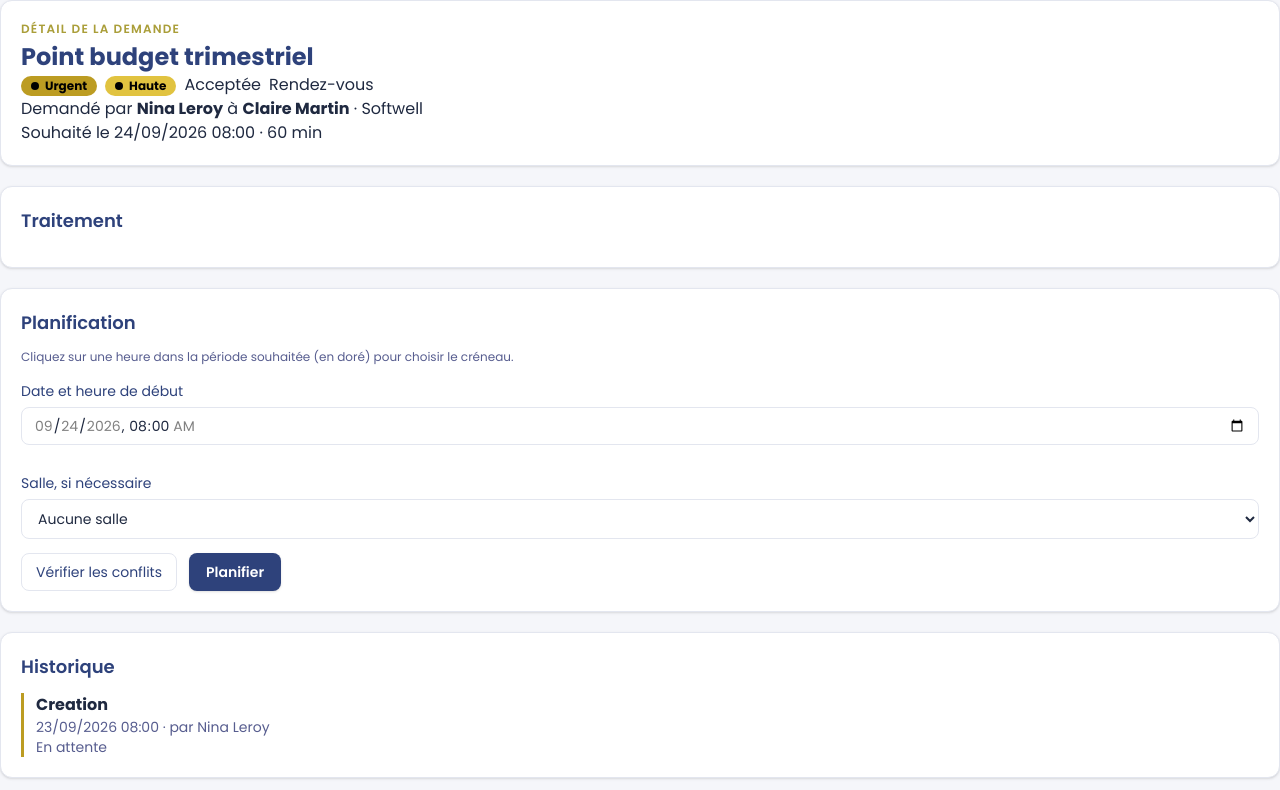
Scenario: DemandeDetailComponent › devrait afficher le blocage quand la planification est conflictuelle
This screenshot has width=1280, height=790.
Click the button "Planifier": {"x": 235, "y": 572} [189, 553, 281, 591]
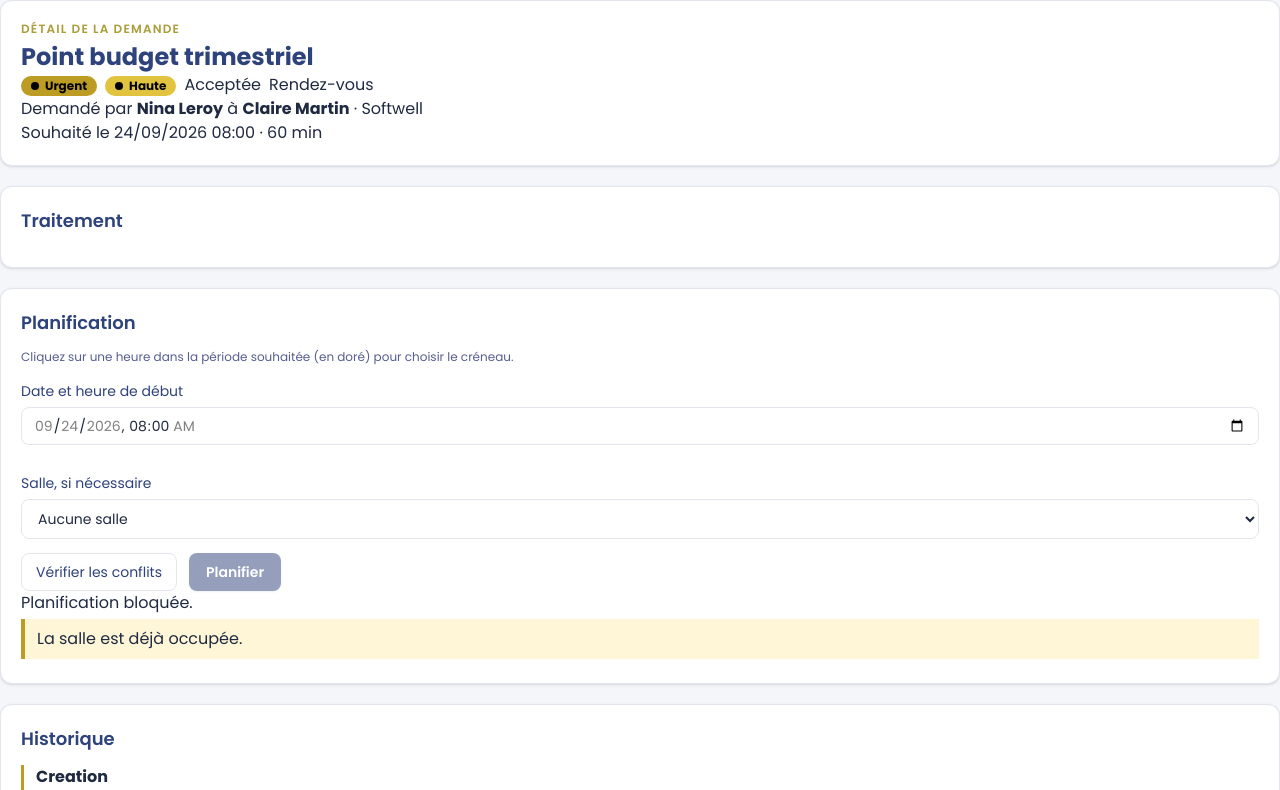
Expected: the text "Planification bloquée." is shown, [21, 591, 193, 614]
Expected: the text "La salle est déjà occupée." is shown, [21, 619, 1259, 659]
